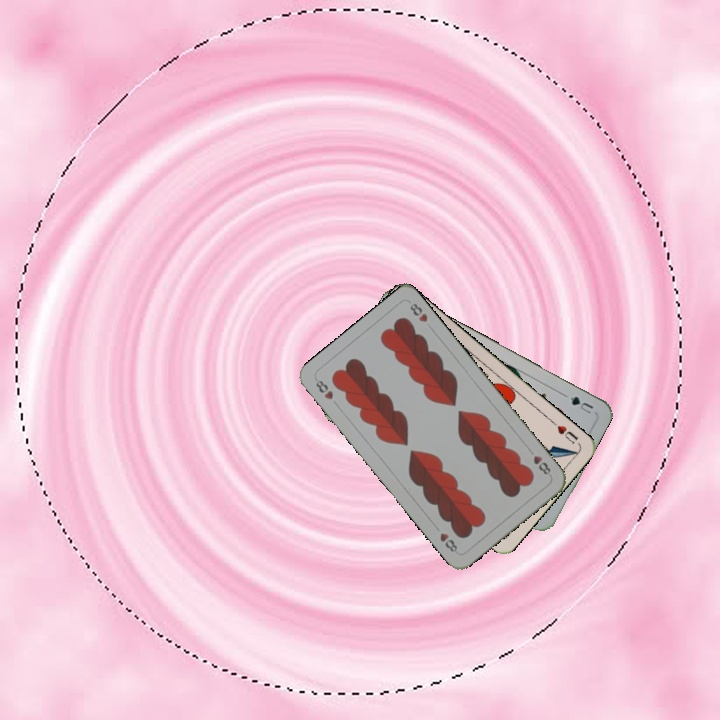GU: (566, 392, 596, 416)
H8: (524, 445, 554, 479), (311, 375, 336, 402)
HU: (548, 417, 581, 446)
